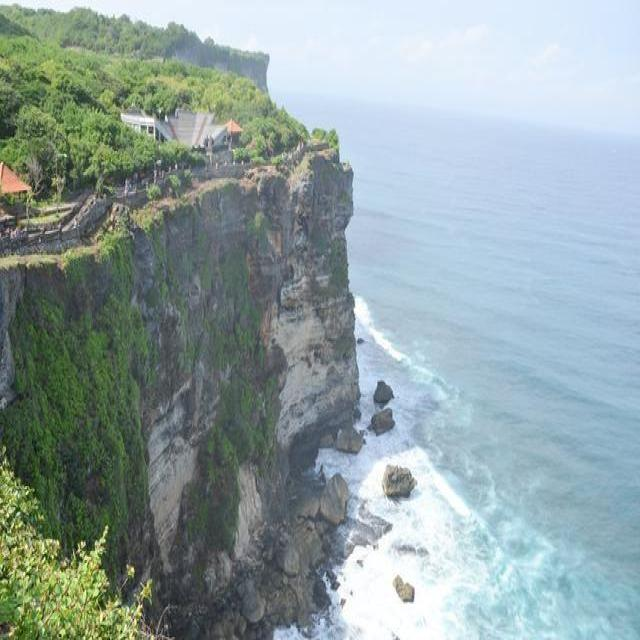reef: (344, 336, 434, 604)
